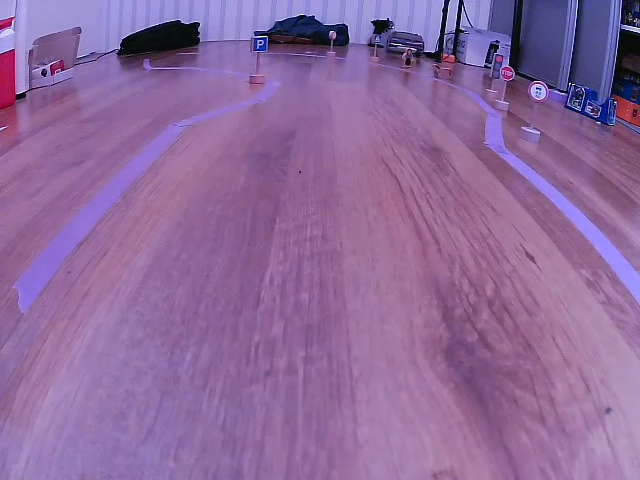fietspad: (529, 81, 548, 103)
parkeerbord: (251, 35, 269, 54)
roodlicht: (493, 52, 503, 82)
stopbord: (500, 66, 515, 81)
